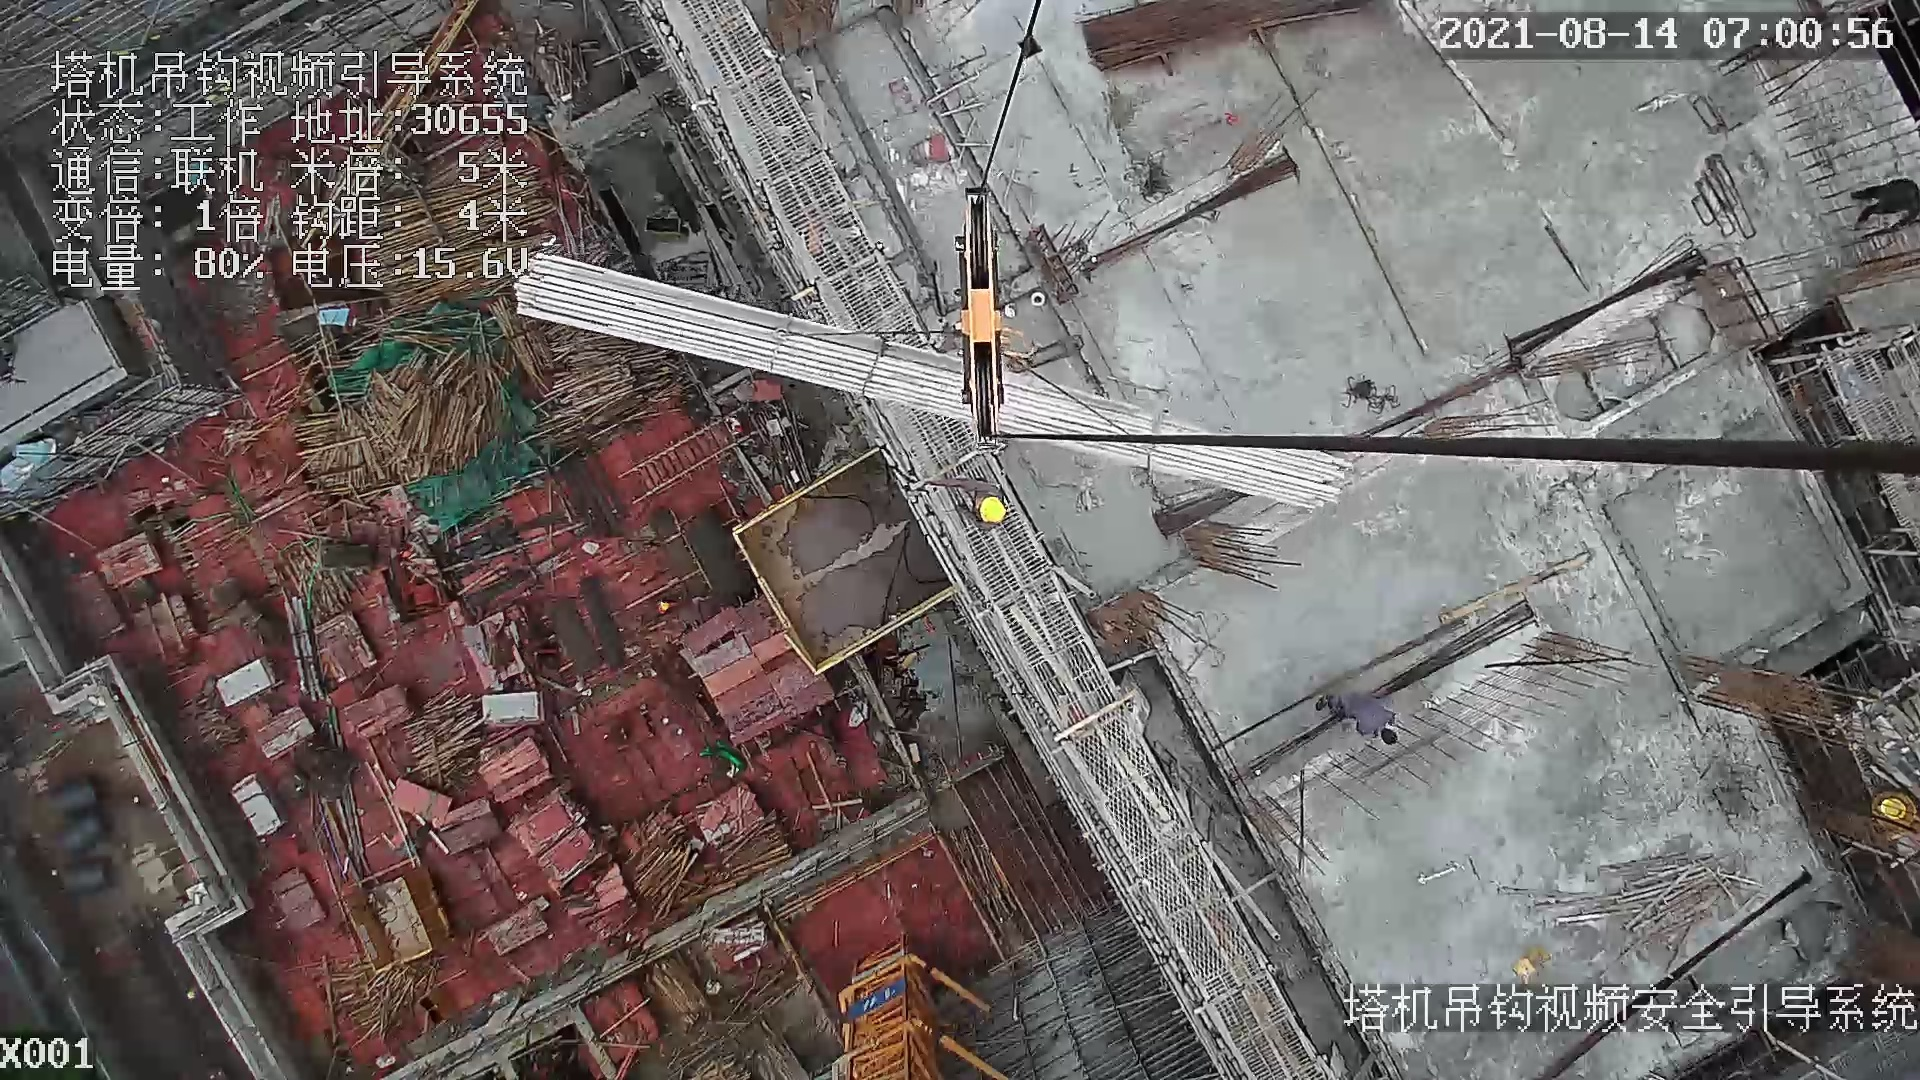helmet: (975, 490, 1009, 525)
hook: (950, 190, 1012, 424)
person: (1313, 689, 1409, 750), (959, 484, 1025, 534)
